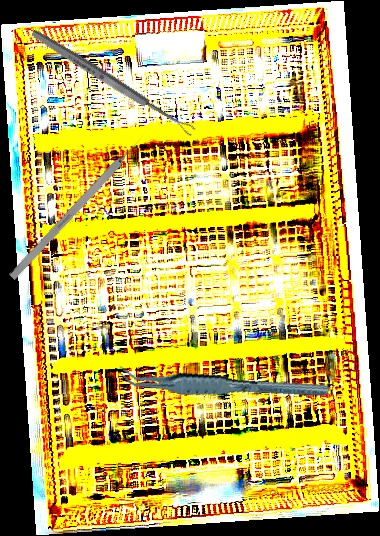Hook Surgical: (8, 132, 148, 281)
Surgical Spoon: (29, 27, 197, 138)
Tissue Forceps: (115, 347, 331, 422)
